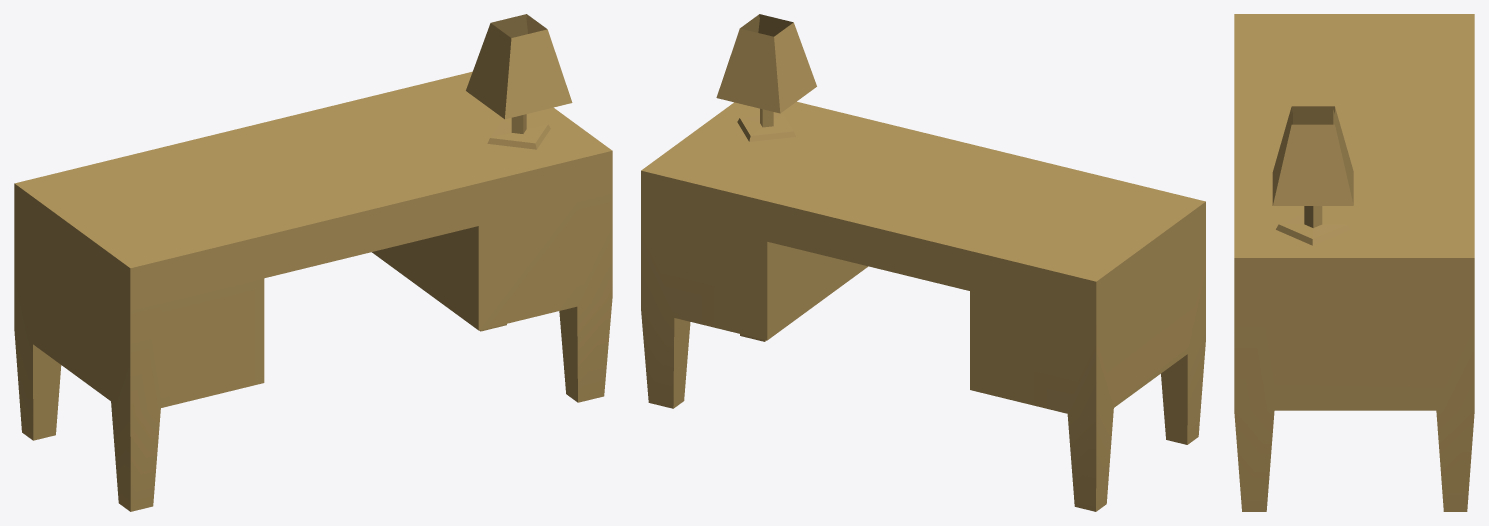
The model's file is Decor_Desk.fbx.
3 views of the same model, side by side, from view 1: azimuth 30°, elevation 25°; view 2: azimuth 150°, elevation 25°; view 3: azimuth 270°, elevation 25° (orthographic). The views are drawn at different scales.
Visible parts, largest first — view 1: Desk; view 2: Desk; view 3: Desk.
Part boxes in pixels (x1,y1,x2,y2): Desk: (14,14,612,511); Desk: (641,14,1205,511); Desk: (1234,14,1474,511).
Size of the model in its own units: 2.43 by 1.72 by 1.01.
1 material, 1 textured.
